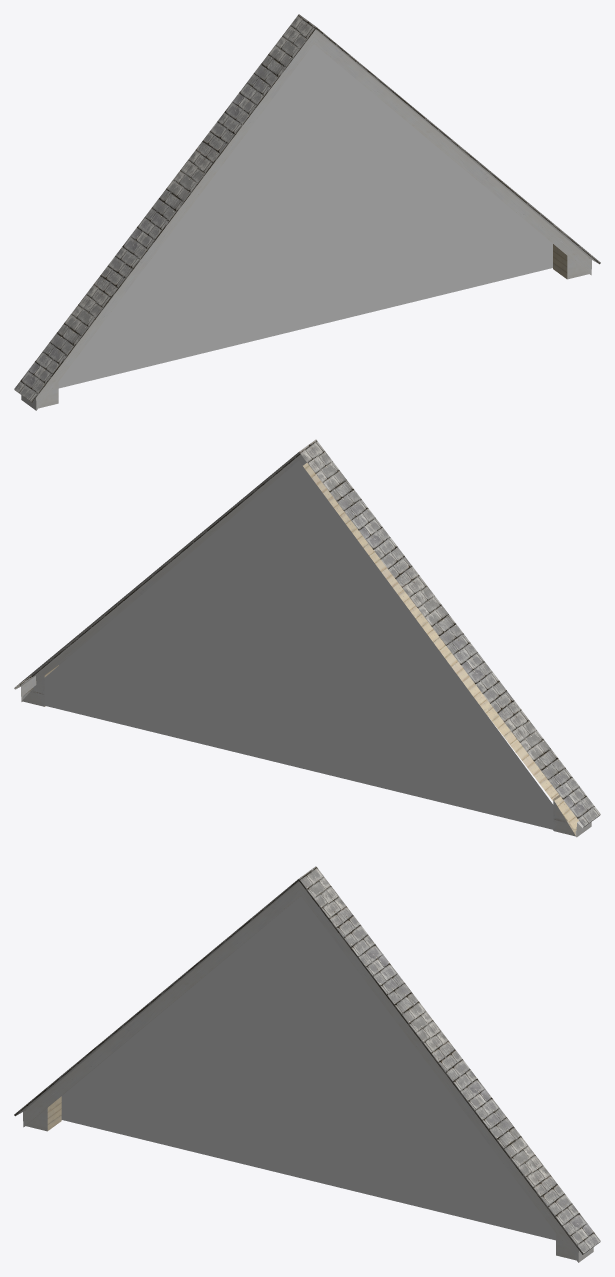
File: Roof_End_7x_COL.FBX
3 renders of one model, top to bottom at view 1: azimuth 30°, elevation 25°; view 2: azimuth 150°, elevation 25°; view 3: azimuth 330°, elevation 25°, orthographic.
Parts seen in each view (by area): view 1: Roof_End_7x_COL; view 2: Roof_End_7x_COL; view 3: Roof_End_7x_COL.
Part boxes in pixels (x1,y1,x2,y2): Roof_End_7x_COL: [14, 14, 600, 410]; Roof_End_7x_COL: [14, 439, 600, 837]; Roof_End_7x_COL: [14, 866, 600, 1262].
Size of the model in its own units: 784 by 418 by 40.91.
